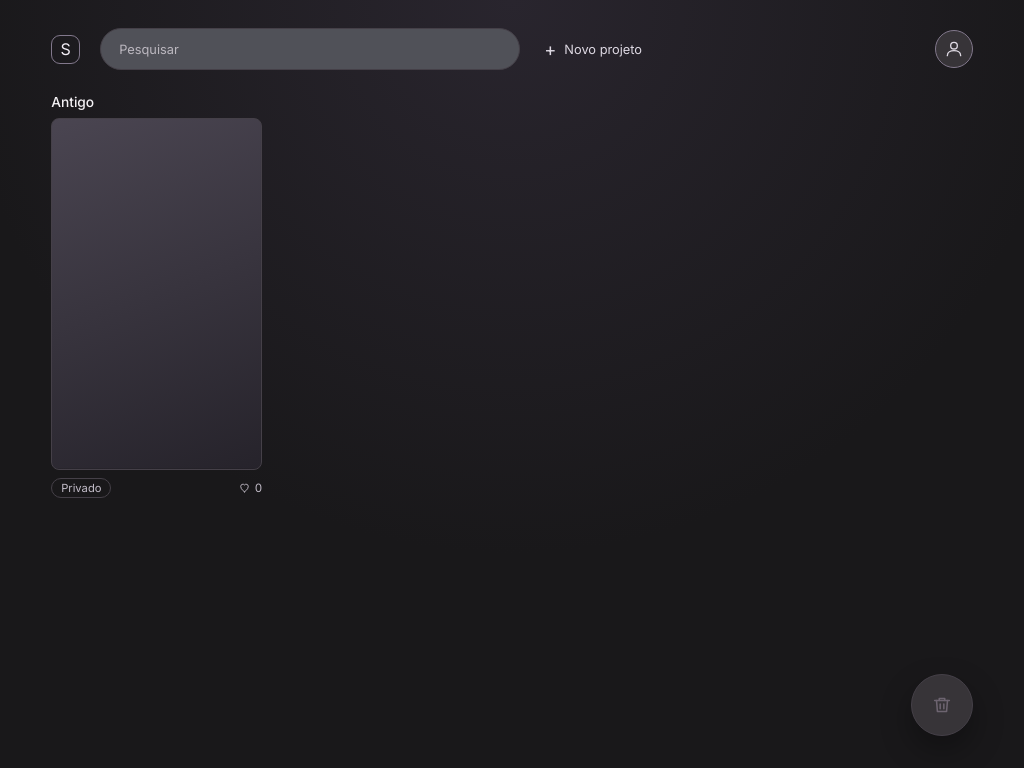
criar e editar › cria um projeto com as tags normalizadas e o põe no topo da lista
The image size is (1024, 768).
Click the button "+ Novo projeto" at coordinates (593, 49), box [540,32,646,66]
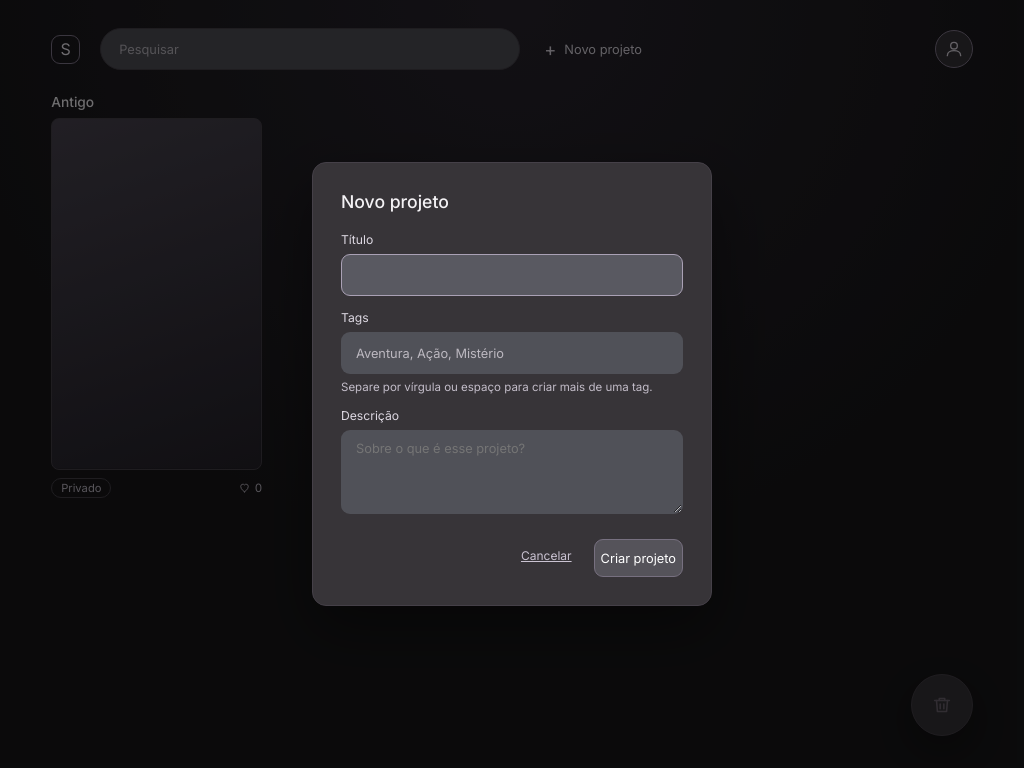
Type "Minha HQ" into the field labelled "Título" at coordinates (512, 275), box [341,254,683,296]
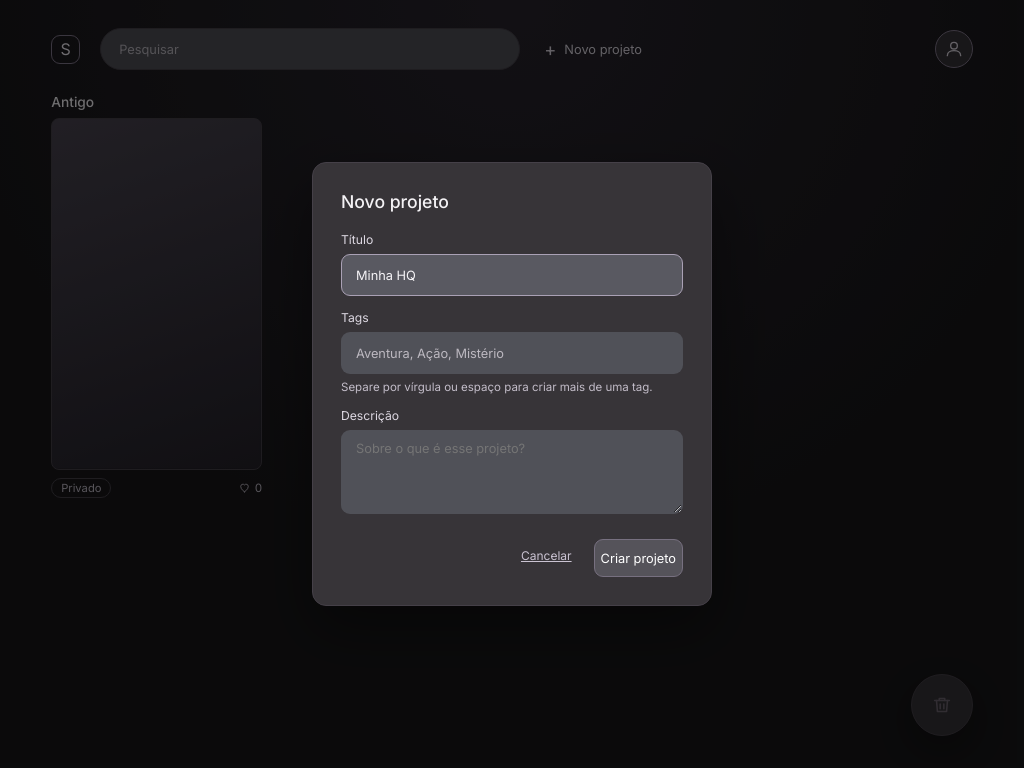
Type "Aventura ação,  mistério" into the field labelled "Tags" at coordinates (512, 353), box [341,332,683,374]
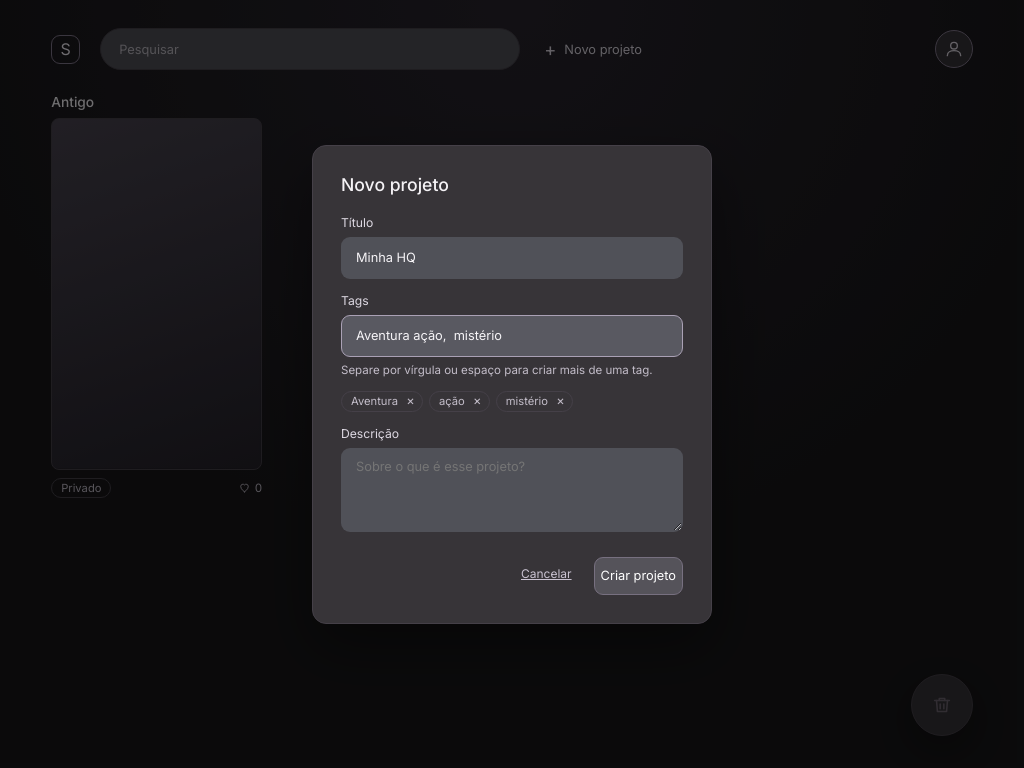
Type "Uma história curta." into the text box labelled "Descrição" at coordinates (512, 490), box [341,448,683,532]
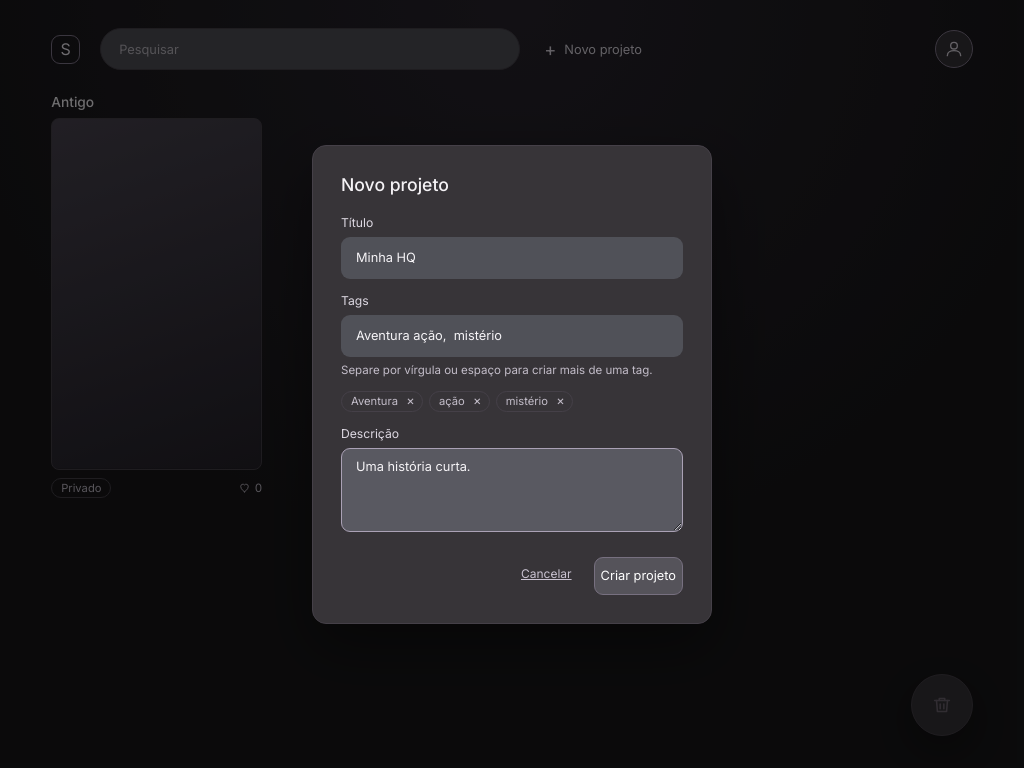
Check: the number of list items is 3, box [341,390,423,412]; [429,390,490,412]; [496,390,573,412]
Click the button named "Remover a tag mistério" at coordinates (560, 401), box [553,394,568,408]
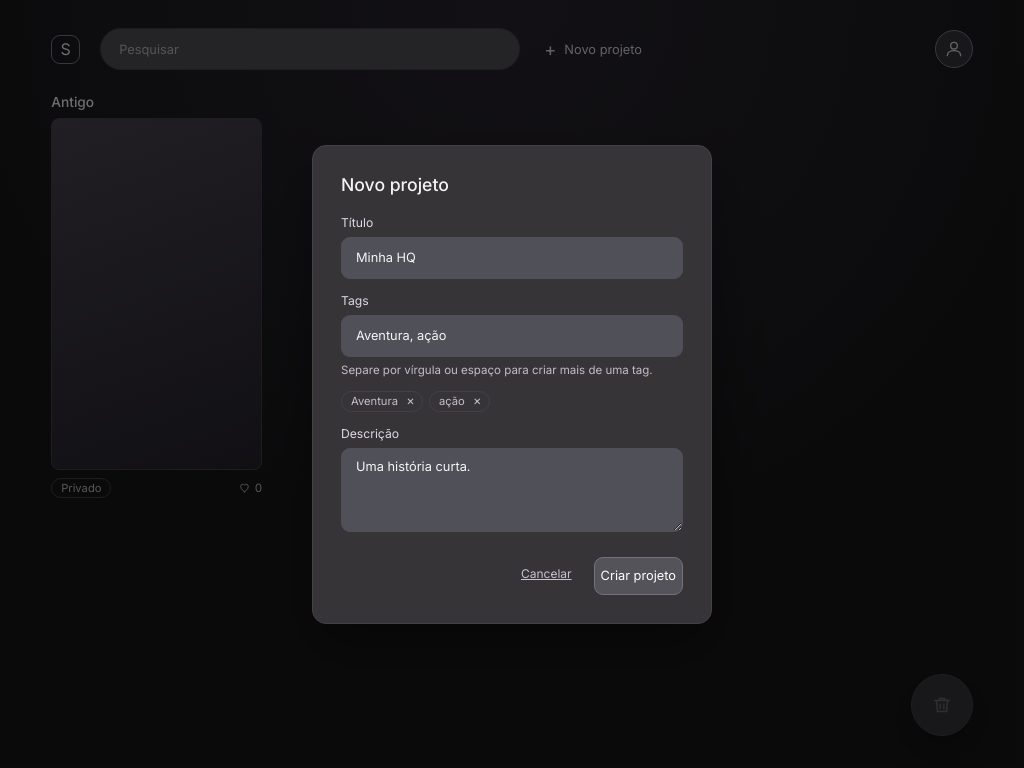
Check: the field labelled "Tags" holds "Aventura, ação", box [341,314,683,356]
Click the button "Criar projeto" at coordinates (638, 576), box [594,556,683,594]
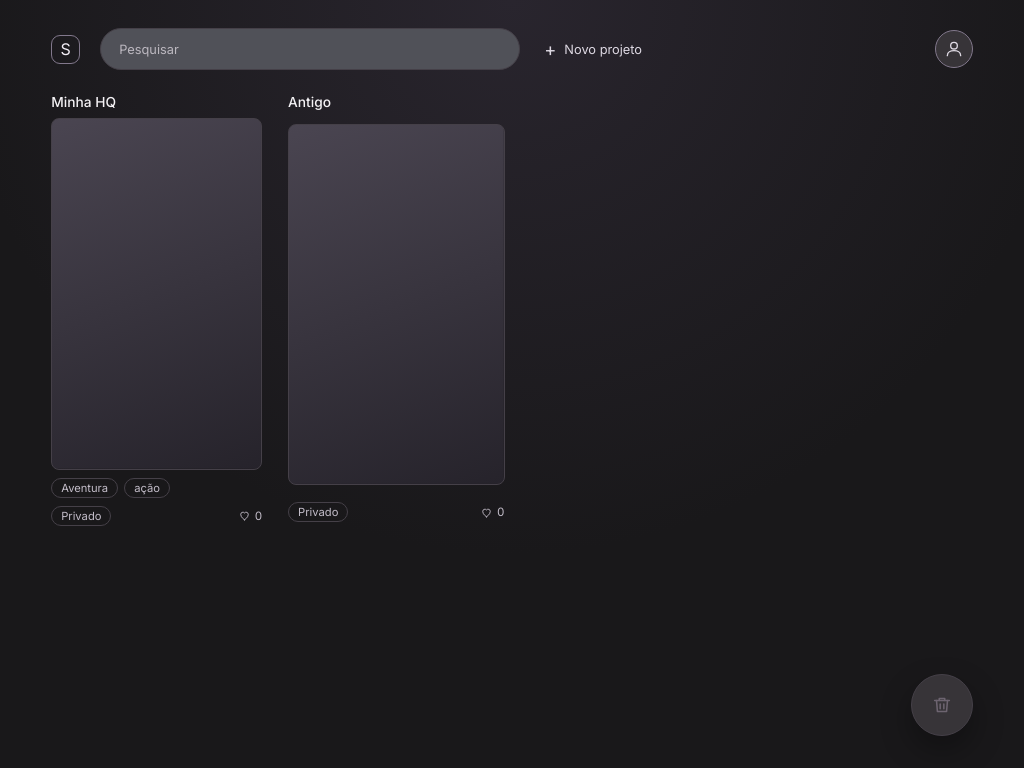
Check: the dialog is gone
